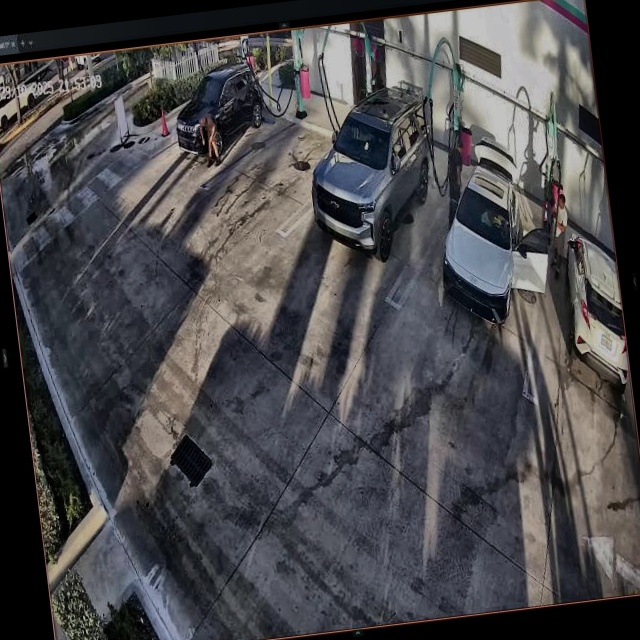Car: (298, 83, 443, 262), (427, 133, 548, 327), (168, 60, 270, 163)
